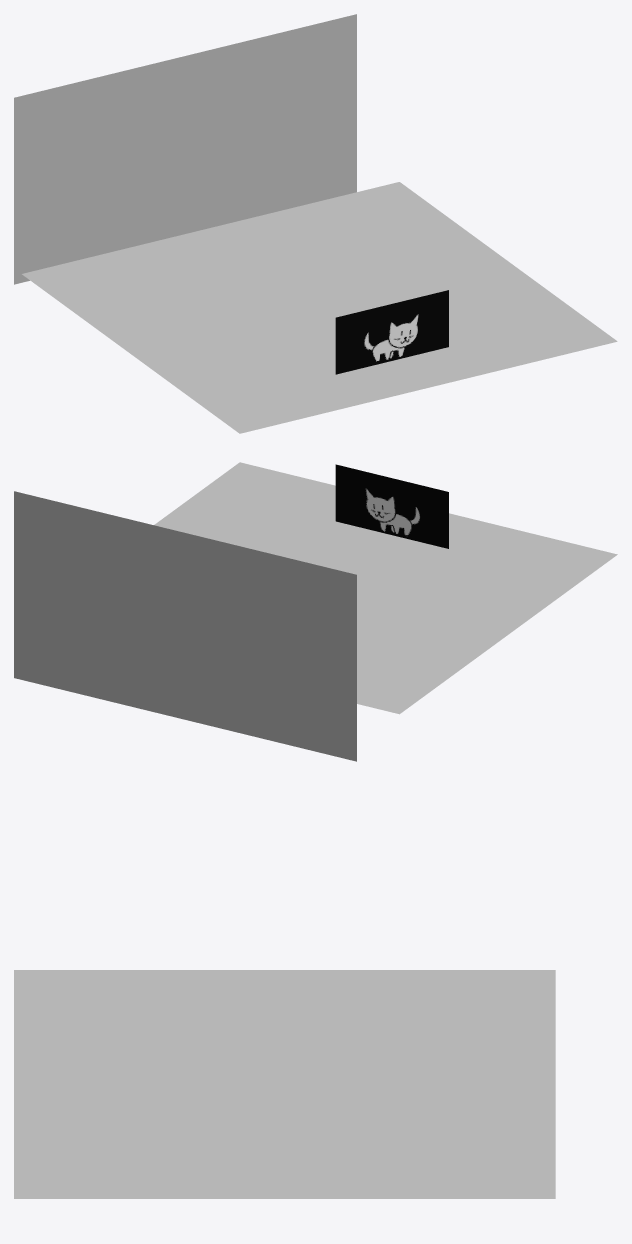
3 views of the same model, one above another, from view 1: azimuth 30°, elevation 25°; view 2: azimuth 150°, elevation 25°; view 3: azimuth 270°, elevation 25° (orthographic). The views are drawn at different scales.
Parts seen in each view (by area): view 1: Plane, Plane__2_, cat; view 2: Plane__2_, Plane, cat; view 3: Plane.
Boxes of the visible parts, left/top/right/bottom form: Plane: left=22, top=182, right=617, bottom=433; Plane__2_: left=14, top=14, right=356, bottom=284; cat: left=335, top=290, right=448, bottom=374; Plane__2_: left=14, top=491, right=356, bottom=761; Plane: left=154, top=462, right=617, bottom=714; cat: left=335, top=464, right=448, bottom=548; Plane: left=14, top=970, right=555, bottom=1198.
Bounding box in the file's own units: 1000 × 472 × 1115.
